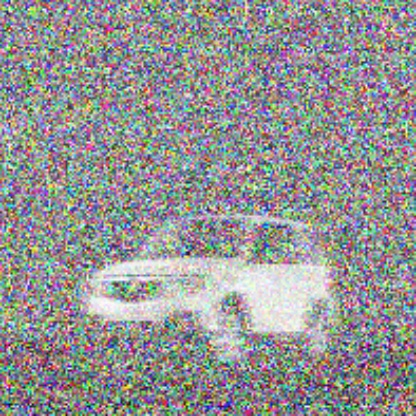Vehicle: (81, 213, 337, 377)
